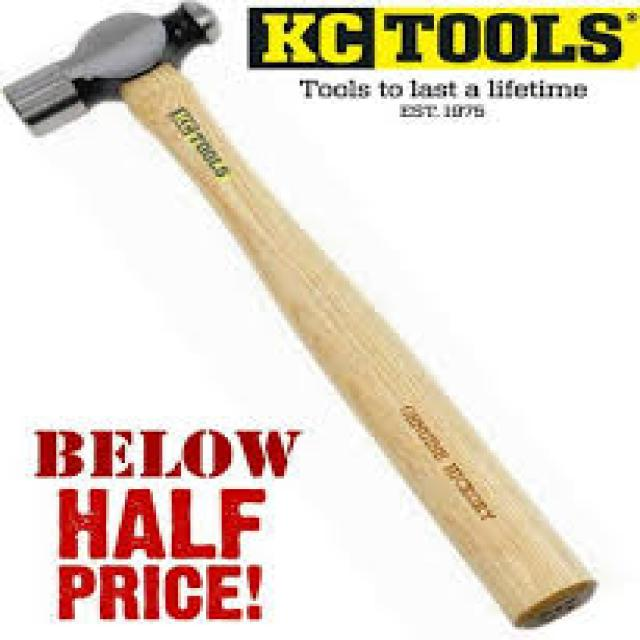hammer: (0, 3, 387, 472)
